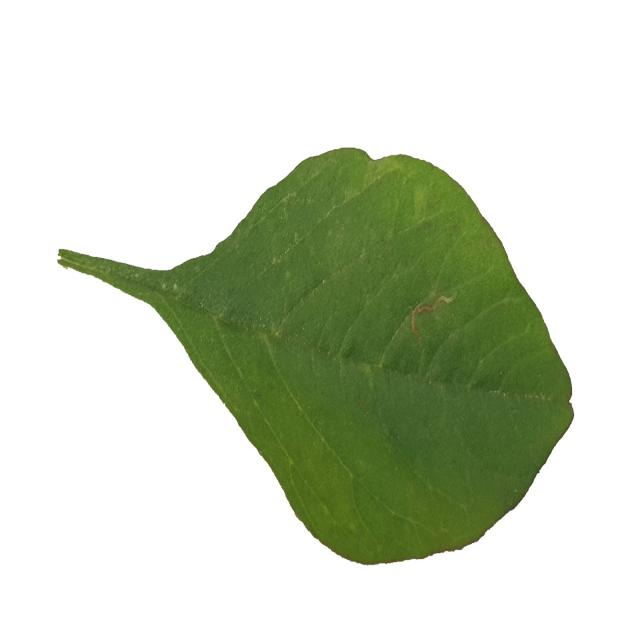Medicinal-Arive Dantu: (58, 148, 574, 566)
